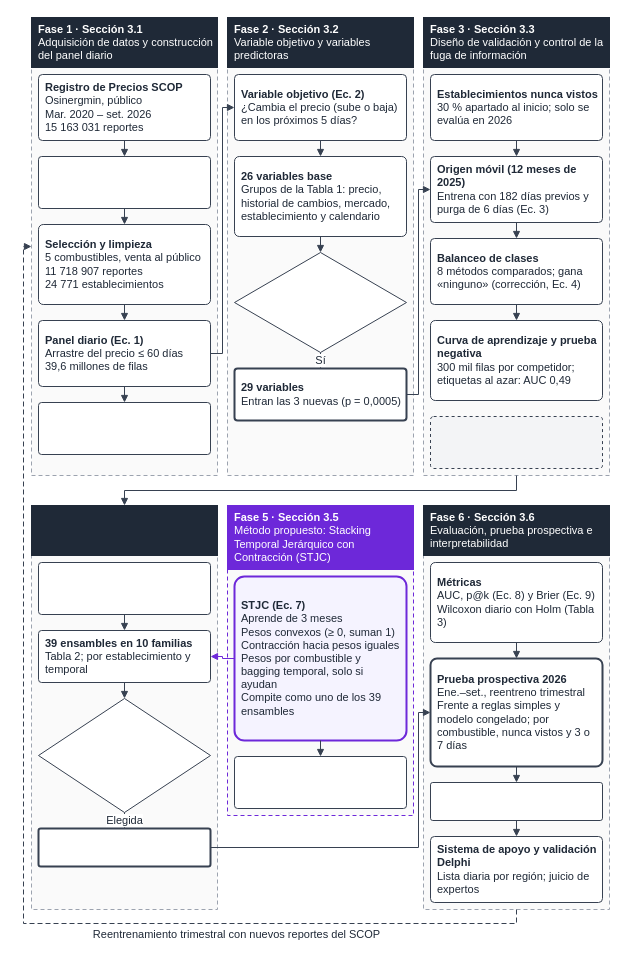
The diagram is 627 pixels wide and 960 high, and some of its shapes have lost their labels. Each missing label, with the centre of its shape:
"2026 reservado Prueba usada una sola vez (Fase 6)" belongs at (516,442).
"4 modelos base CatBoost, LightGBM, XGBoost y Random Forest" belongs at (124,588).
"Ablación pieza por pieza Se mide el aporte de cada parte" belongs at (320,782).
"Análisis exploratorio Sin cambio de precio: 95,35 % de los días" belongs at (124,428).
"Fase 4 · Sección 3.4 Modelos base y estrategias de ensamble" belongs at (124,530).
"Interpretabilidad SHAP por establecimiento" belongs at (516,801).
"Regla previa: 1) más métricas superadas; 2) mejor posición media; 3) AUC" belongs at (124,755).
"Seudonimización Código por establecimiento con clave secreta" belongs at (124,182).
"Votación suave (Ec. 5) Gana 4 de 4 métricas" belongs at (124,847).
"¿Las 3 nuevas mejoran el AUC en 2025? (Wilcoxon)" belongs at (320,302).
